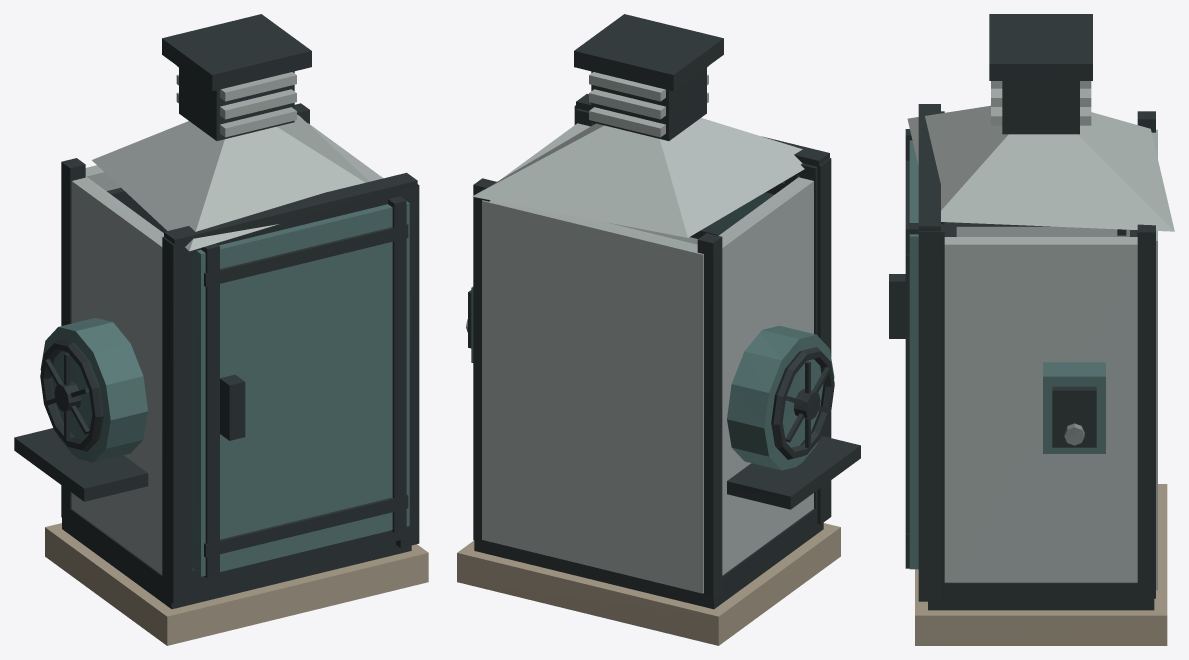
Rendered from dehydrator.source.glb.
3 views of the same model, side by side, from view 1: azimuth 30°, elevation 25°; view 2: azimuth 150°, elevation 25°; view 3: azimuth 270°, elevation 25° (orthographic). The views are drawn at different scales.
Parts seen in each view (by area): view 1: dehydrator-teal-front-door-panel-mesh, dehydrator-left-galvanized-panel-mesh, dehydrator-faceted-exhaust-hood-mesh, dehydrator-cream-ground-plinth-mesh, dehydrator-front-vertical-frame--0.73-mesh, dehydrator-side-fan-housing-body-mesh, dehydrator-exhaust-rain-cap-mesh, dehydrator-dark-base-frame-mesh, dehydrator-front-top-frame-mesh, dehydrator-door-vertical-edge--1.27-mesh, dehydrator-door-vertical-edge--0.07-mesh, dehydrator-fan-support-shelf-mesh (+13 smaller); view 2: dehydrator-rear-galvanized-panel-mesh, dehydrator-faceted-exhaust-hood-mesh, dehydrator-left-galvanized-panel-mesh, dehydrator-cream-ground-plinth-mesh, dehydrator-side-fan-housing-body-mesh, dehydrator-exhaust-rain-cap-mesh, dehydrator-corner-post--0.72--0.57-mesh, dehydrator-dark-base-frame-mesh, dehydrator-fan-support-shelf-mesh, dehydrator-front-vertical-frame--0.73-mesh, dehydrator-corner-post-0.72--0.57-mesh, dehydrator-exhaust-stack-core-mesh (+9 smaller); view 3: dehydrator-right-galvanized-panel-mesh, dehydrator-faceted-exhaust-hood-mesh, dehydrator-cream-ground-plinth-mesh, dehydrator-front-vertical-frame-0.73-mesh, dehydrator-corner-post-0.72--0.57-mesh, dehydrator-exhaust-rain-cap-mesh, dehydrator-dark-base-frame-mesh, dehydrator-exhaust-stack-core-mesh, dehydrator-teal-front-door-panel-mesh, dehydrator-teal-control-box-mesh, dehydrator-control-box-face-mesh, dehydrator-front-top-frame-mesh (+5 smaller).
Boxes of the visible parts, <box> form: dehydrator-teal-front-door-panel-mesh: <box>192,201,409,576</box>; dehydrator-left-galvanized-panel-mesh: <box>71,176,163,574</box>; dehydrator-faceted-exhaust-hood-mesh: <box>92,114,369,251</box>; dehydrator-cream-ground-plinth-mesh: <box>45,523,428,645</box>; dehydrator-front-vertical-frame--0.73-mesh: <box>162,237,191,603</box>; dehydrator-side-fan-housing-body-mesh: <box>40,318,147,462</box>; dehydrator-exhaust-rain-cap-mesh: <box>162,14,311,91</box>; dehydrator-dark-base-frame-mesh: <box>62,503,411,609</box>; dehydrator-front-top-frame-mesh: <box>164,172,417,259</box>; dehydrator-door-vertical-edge--1.27-mesh: <box>201,243,219,578</box>; dehydrator-door-vertical-edge--0.07-mesh: <box>388,196,406,532</box>; dehydrator-fan-support-shelf-mesh: <box>14,428,148,501</box>; dehydrator-rear-galvanized-panel-mesh: <box>482,200,703,593</box>; dehydrator-faceted-exhaust-hood-mesh: <box>472,118,804,237</box>; dehydrator-left-galvanized-panel-mesh: <box>718,177,813,575</box>; dehydrator-cream-ground-plinth-mesh: <box>457,523,840,645</box>; dehydrator-side-fan-housing-body-mesh: <box>727,325,834,470</box>; dehydrator-exhaust-rain-cap-mesh: <box>574,14,723,91</box>; dehydrator-corner-post--0.72--0.57-mesh: <box>697,233,722,598</box>; dehydrator-dark-base-frame-mesh: <box>474,508,823,609</box>; dehydrator-fan-support-shelf-mesh: <box>727,436,860,509</box>; dehydrator-front-vertical-frame--0.73-mesh: <box>802,158,831,524</box>; dehydrator-corner-post-0.72--0.57-mesh: <box>473,178,496,543</box>; dehydrator-exhaust-stack-core-mesh: <box>591,67,706,140</box>; dehydrator-right-galvanized-panel-mesh: <box>944,237,1137,582</box>; dehydrator-faceted-exhaust-hood-mesh: <box>907,105,1174,231</box>; dehydrator-cream-ground-plinth-mesh: <box>915,484,1167,645</box>; dehydrator-front-vertical-frame-0.73-mesh: <box>918,231,940,601</box>; dehydrator-corner-post-0.72--0.57-mesh: <box>1137,224,1155,598</box>; dehydrator-exhaust-rain-cap-mesh: <box>989,14,1092,80</box>; dehydrator-dark-base-frame-mesh: <box>928,582,1154,610</box>; dehydrator-exhaust-stack-core-mesh: <box>1002,81,1079,134</box>; dehydrator-teal-front-door-panel-mesh: <box>909,140,918,569</box>; dehydrator-teal-control-box-mesh: <box>1043,362,1105,453</box>; dehydrator-control-box-face-mesh: <box>1052,386,1096,447</box>; dehydrator-front-top-frame-mesh: <box>918,104,940,231</box>.
Bounding box in the file's own units: 2.21 × 3.22 × 1.54.
